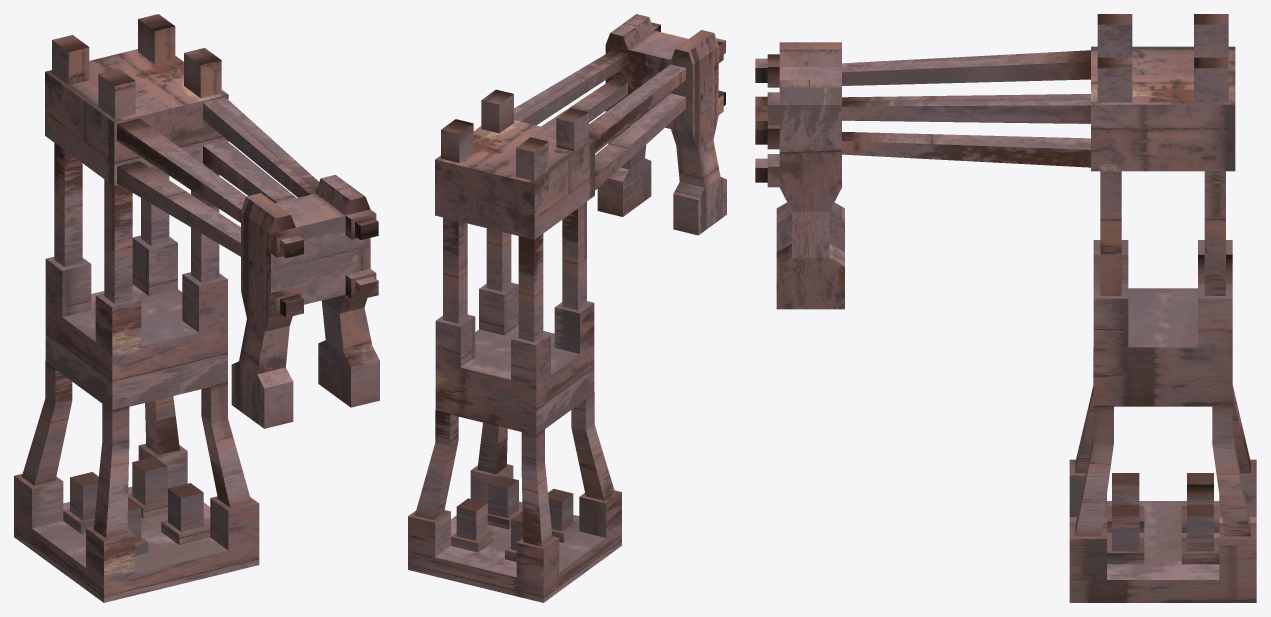
Rendered from Crane.fbx.
The picture shows the model from 3 angles, left to right: view 1: azimuth 30°, elevation 25°; view 2: azimuth 150°, elevation 25°; view 3: azimuth 270°, elevation 25°; orthographic projection. The views are drawn at different scales.
Parts seen in each view (by area): view 1: Cube; view 2: Cube; view 3: Cube.
Part boxes in pixels (x1=…): Cube: x1=14, y1=14, x2=379, y2=602; Cube: x1=408, y1=14, x2=726, y2=602; Cube: x1=755, y1=14, x2=1256, y2=602.
Size of the model in its own units: 200 by 616 by 536.
1 material, 1 textured.
